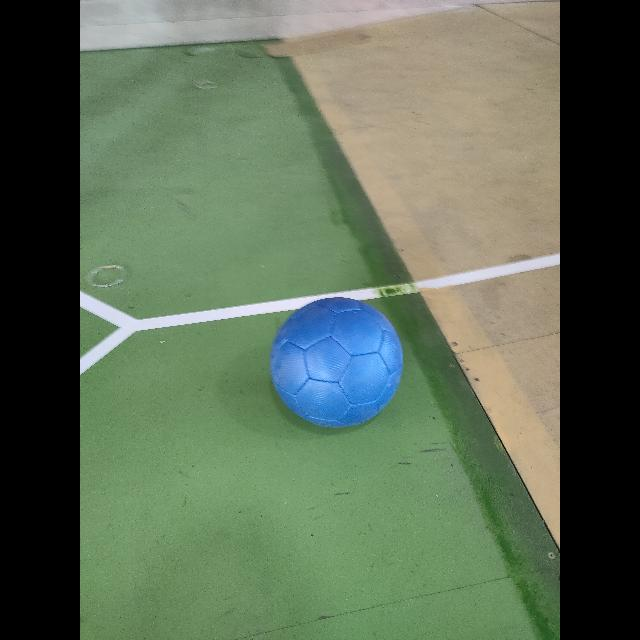B: (271, 298, 404, 427)
